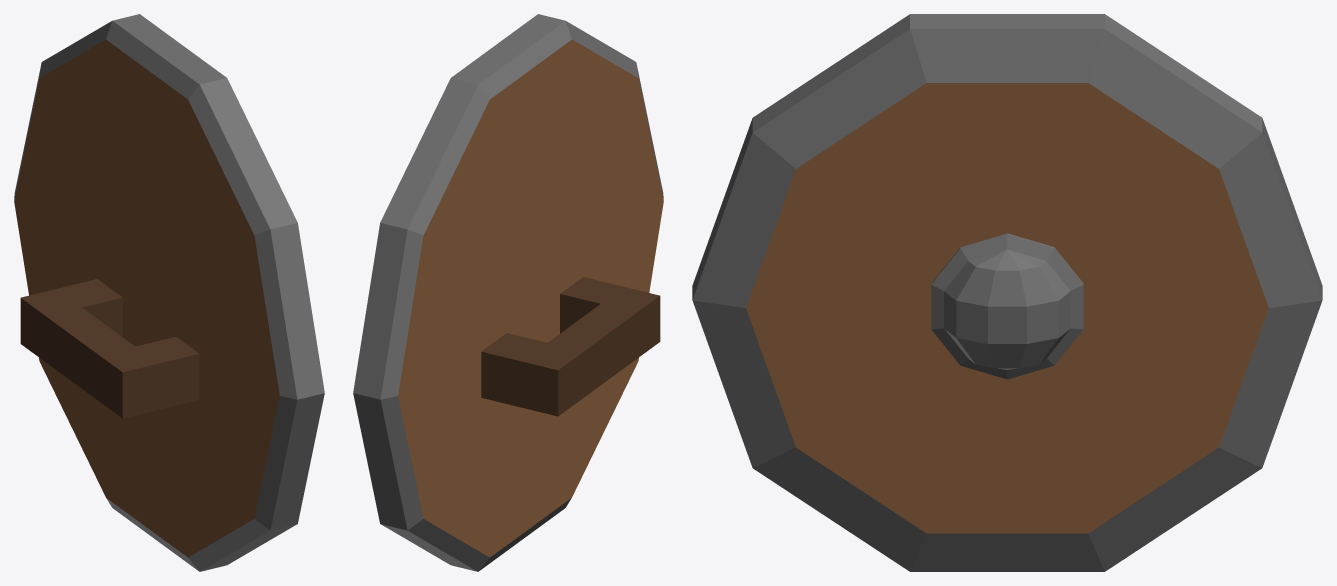
The model's file is Schild.fbx.
3 views of the same model, side by side, from view 1: azimuth 30°, elevation 25°; view 2: azimuth 150°, elevation 25°; view 3: azimuth 270°, elevation 25° (orthographic). The views are drawn at different scales.
Parts seen in each view (by area): view 1: Cube.001; view 2: Cube.001; view 3: Cube.001.
Part boxes in pixels (<box>): Cube.001: <box>14,14,324,571</box>; Cube.001: <box>353,14,663,571</box>; Cube.001: <box>692,14,1322,571</box>.
Size of the model in its own units: 16.84 by 47.98 by 50.44.
